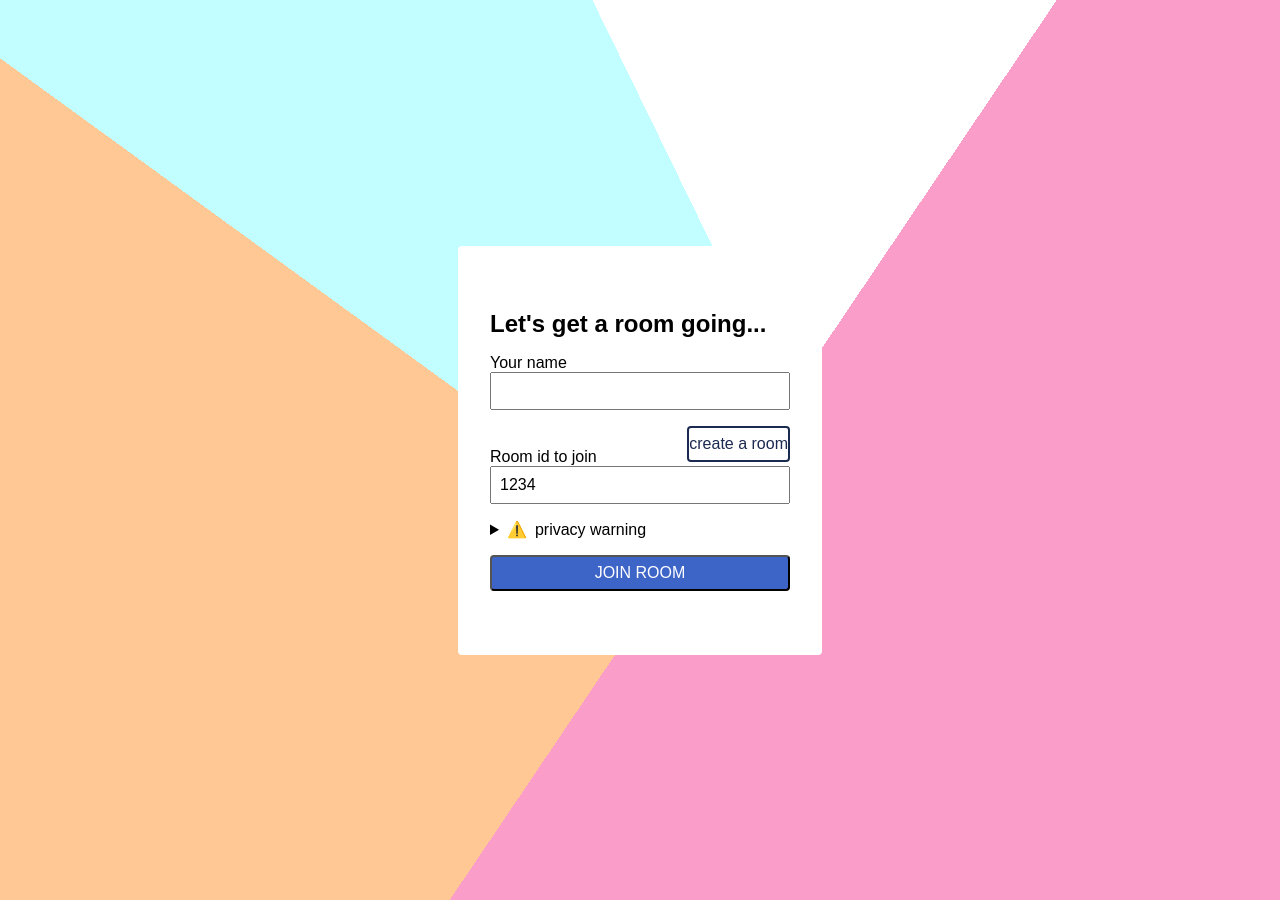
Test: <lobby /> › joining a room › shows an error message when I try to join without a room id
Type "Me" into the field labelled "Your name" at (640, 390), box [490,372,790,410]
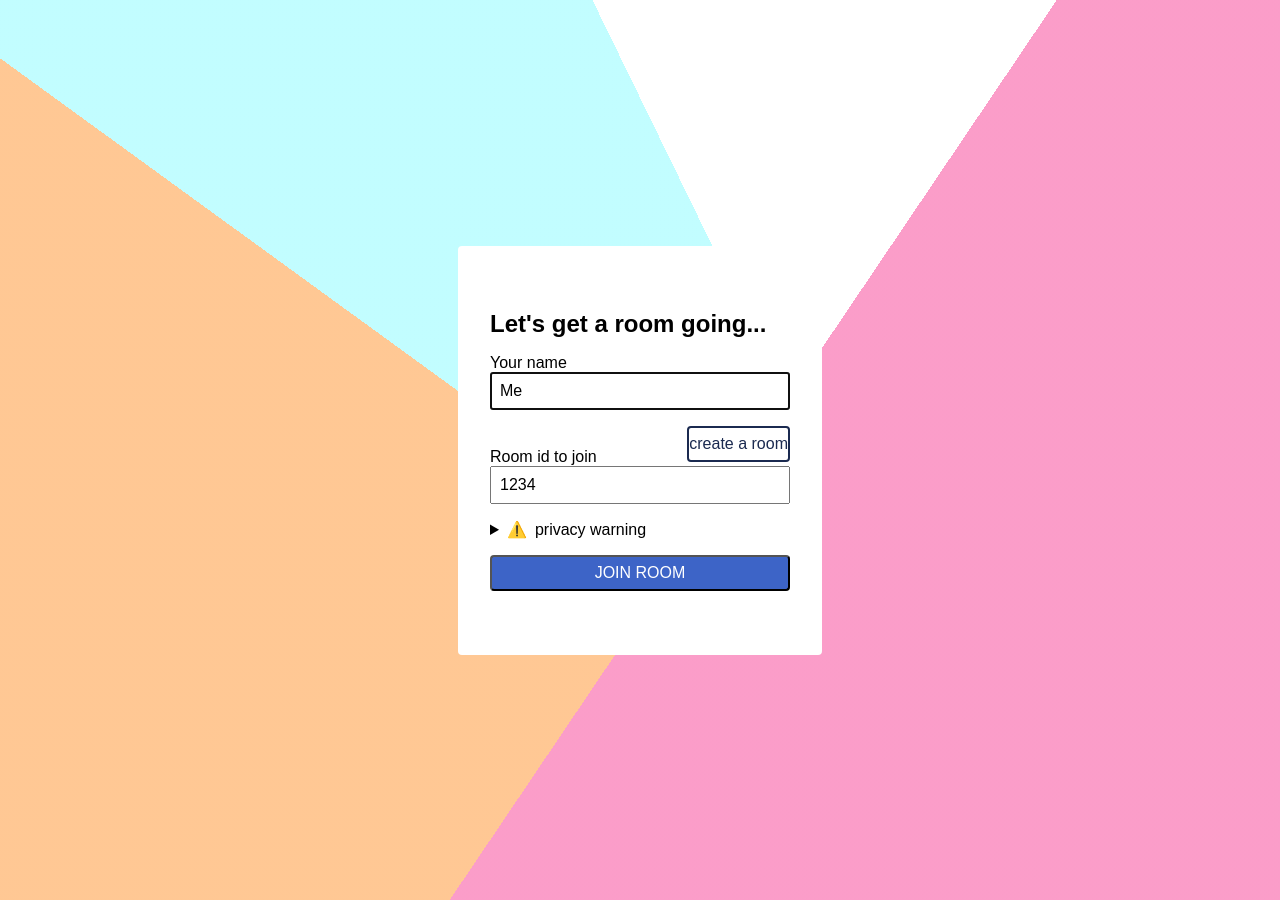
Clear the field labelled "Room id to join Create a room" at (640, 484), box [490,466,790,504]
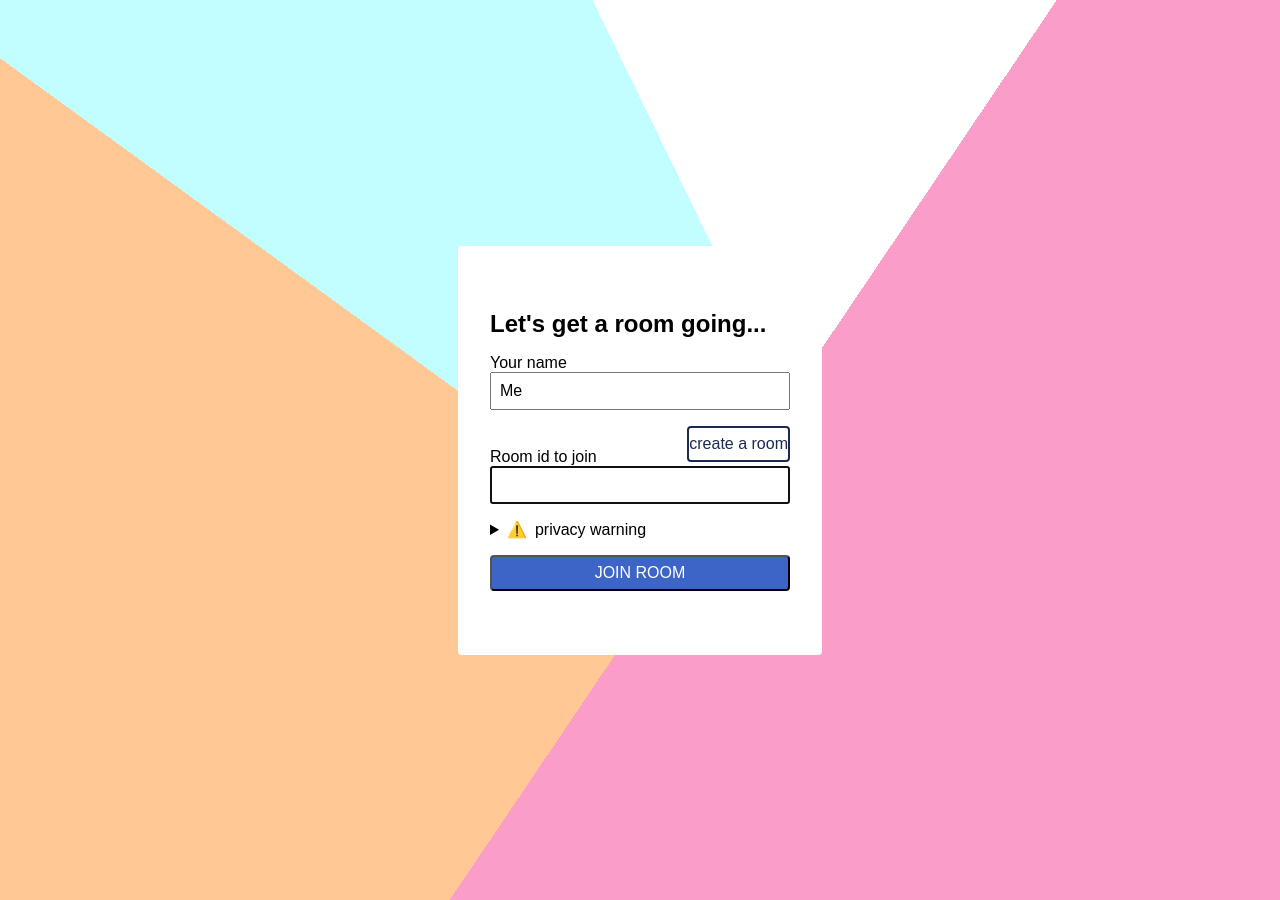
Click the button "join room" at (640, 572), box [490,554,790,590]
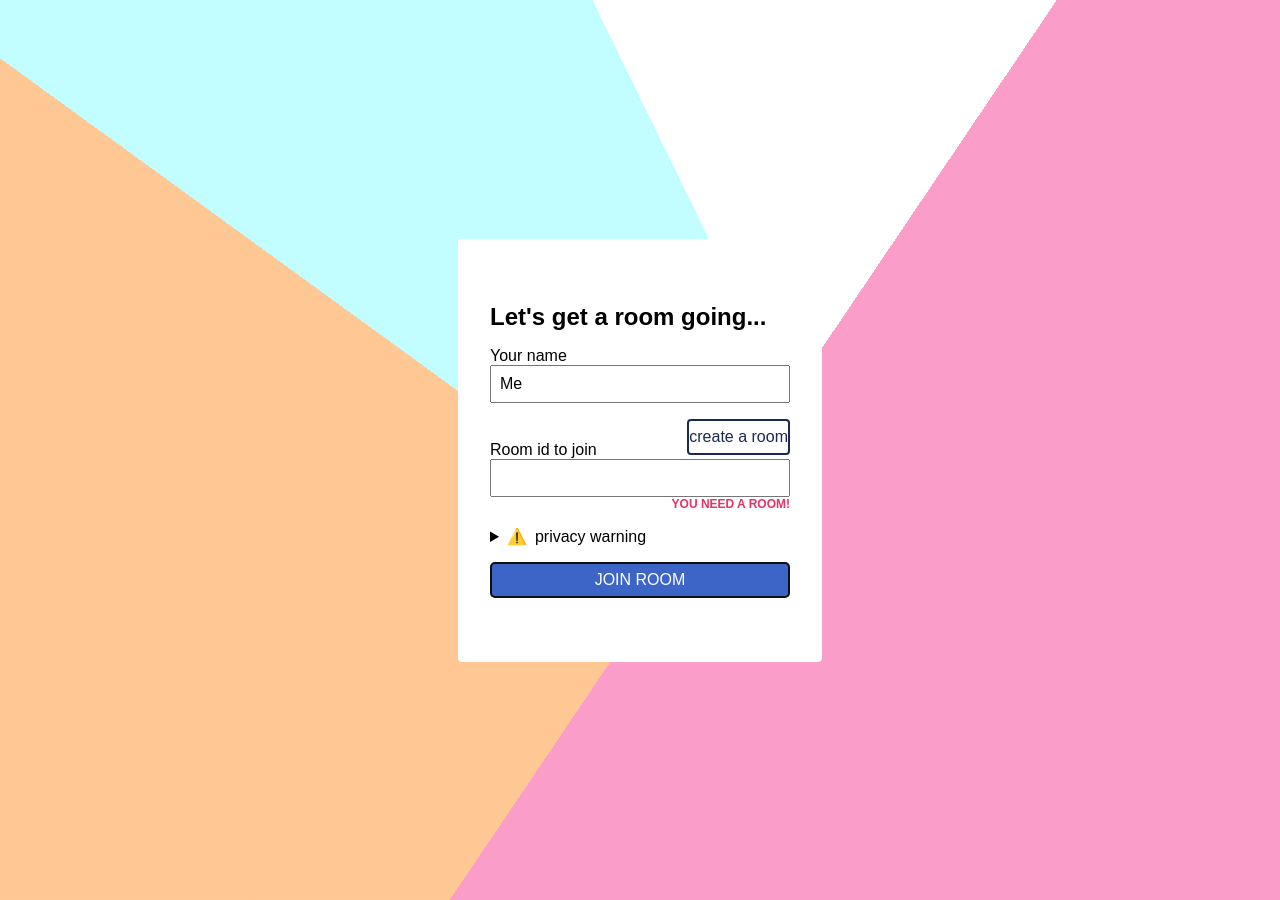
Now the text "you need a room!" is shown, box [672,496,790,510]
